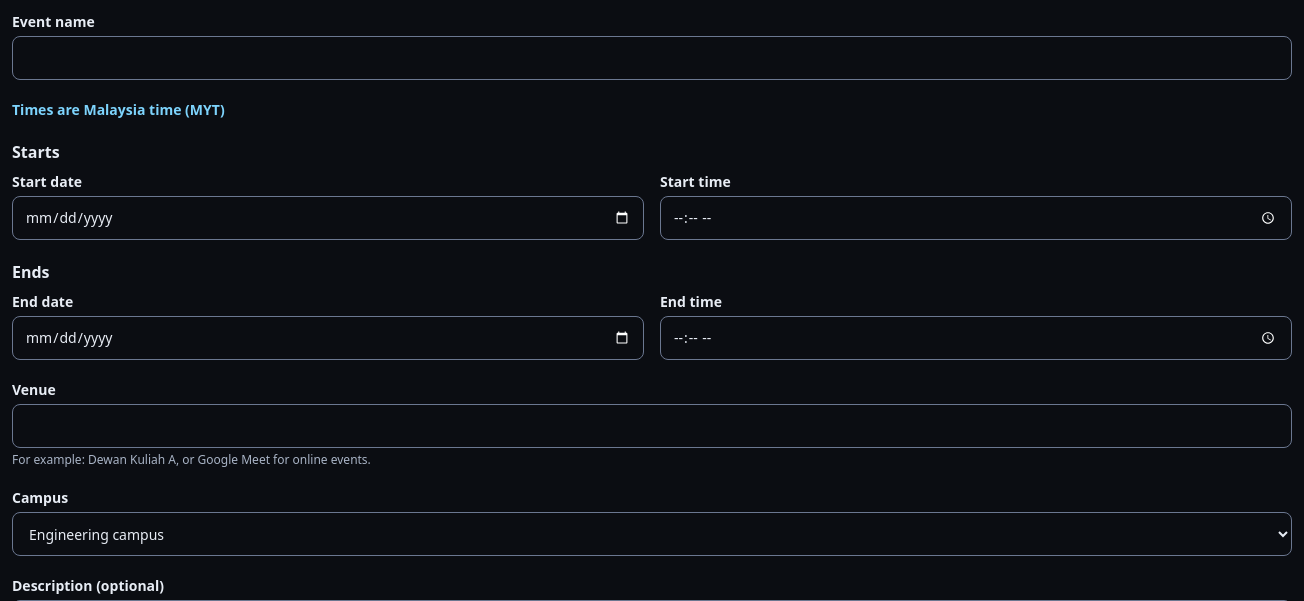
PostForm › offers "ends next day" for an overnight event
Expected: the field labelled "Event name" is shown, x1=12 y1=36 x2=1292 y2=80
Type "2026-10-11" into the date field labelled "Start date" at (328, 218), box x1=12 y1=196 x2=644 y2=240
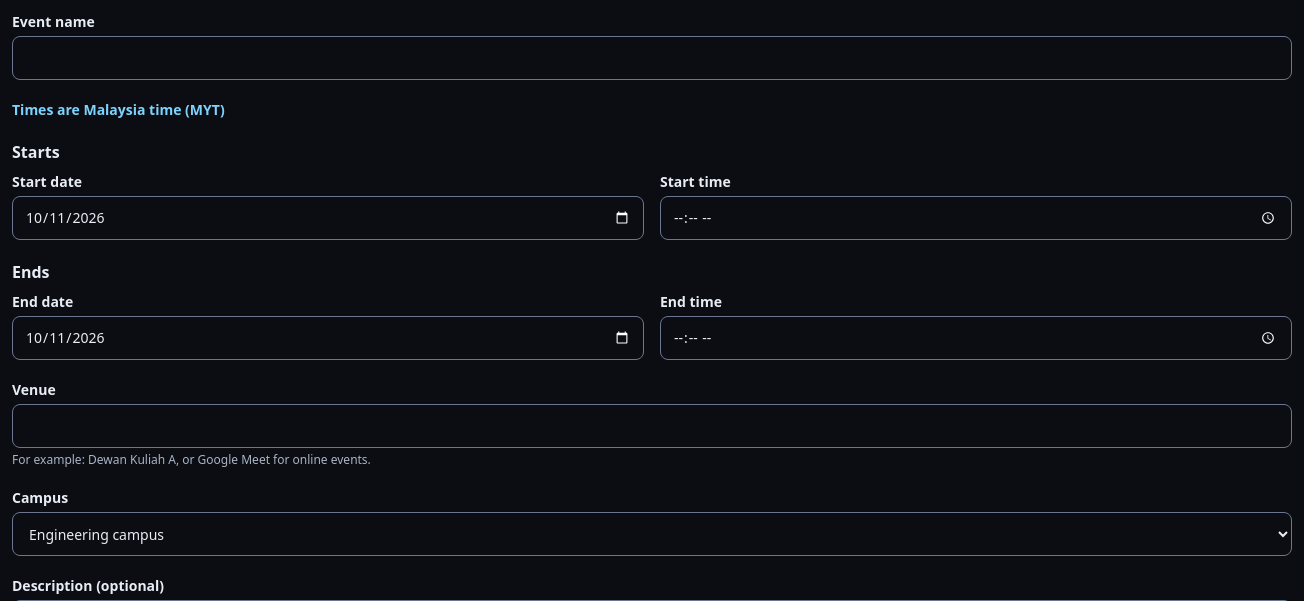
Type "22:00" into the time field labelled "Start time" at (976, 218), box x1=660 y1=196 x2=1292 y2=240
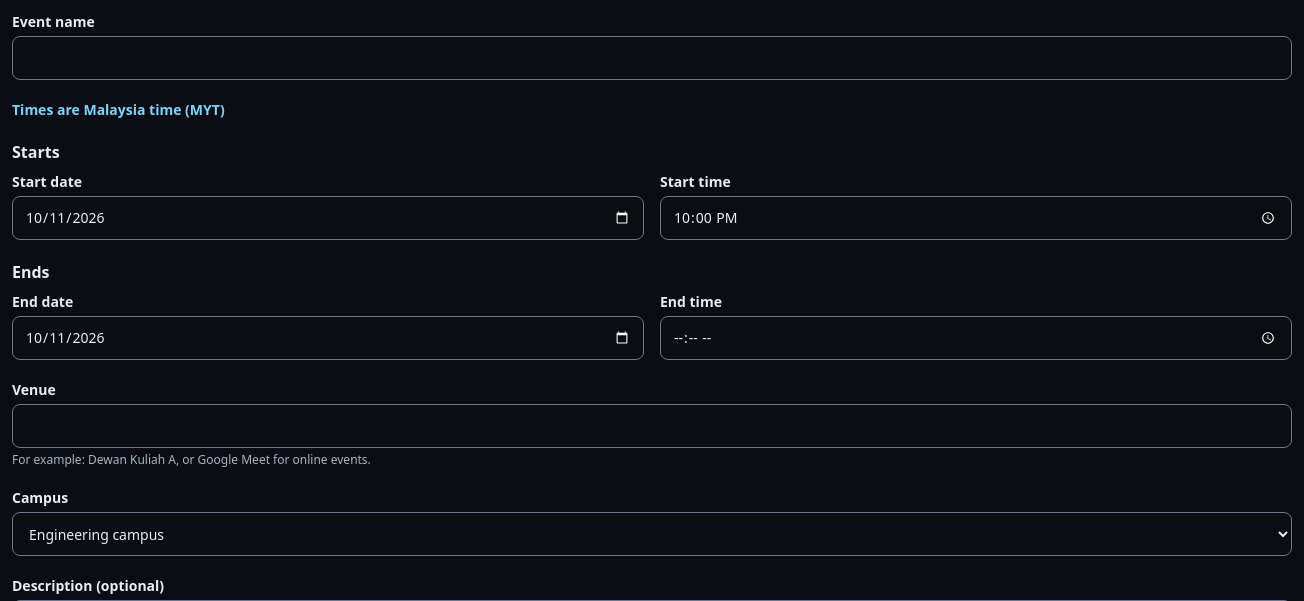
Type "02:00" into the time field labelled "End time" at (976, 338), box x1=660 y1=316 x2=1292 y2=360
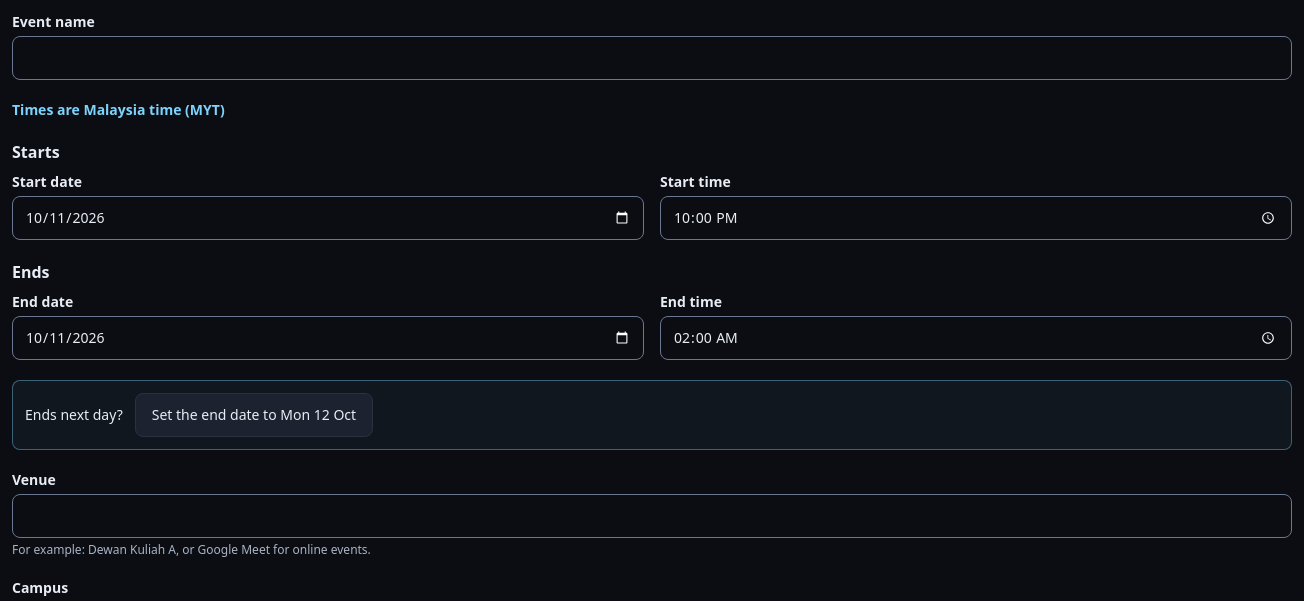
Now the text "Ends next day?" is shown, box x1=25 y1=405 x2=123 y2=425
Click the button "Set the end date to Mon 12 Oct" at (254, 415), box x1=135 y1=393 x2=373 y2=437
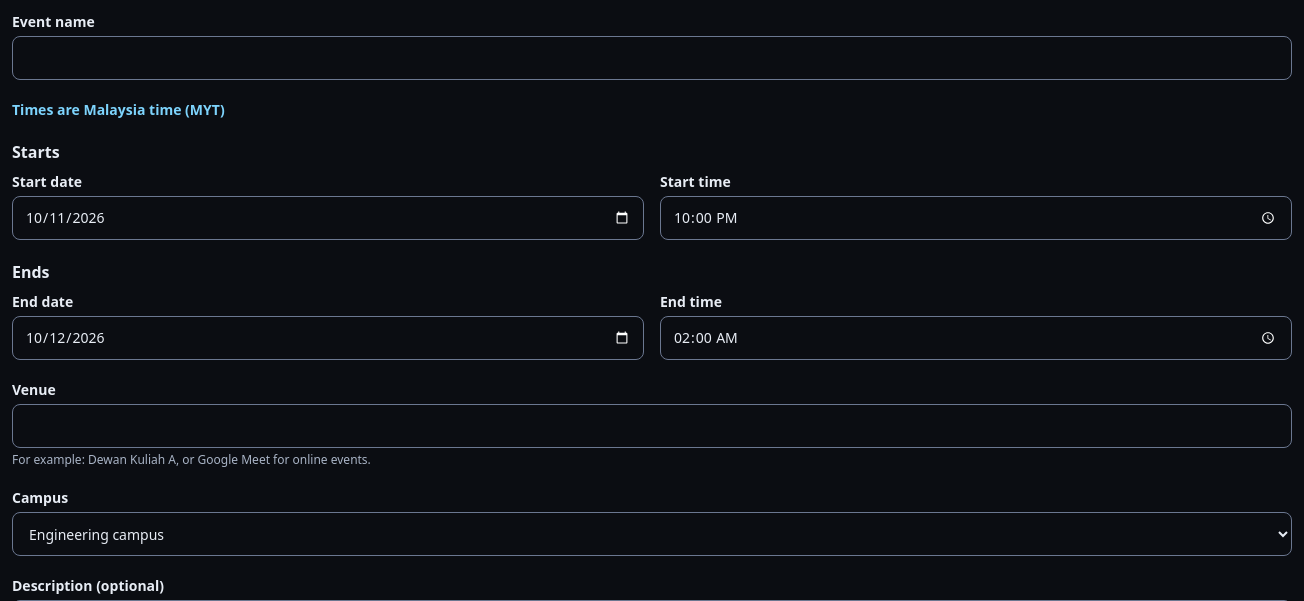
Now the date field labelled "End date" holds "2026-10-12", box x1=12 y1=316 x2=644 y2=360
Now the text "Ends next day?" is gone
